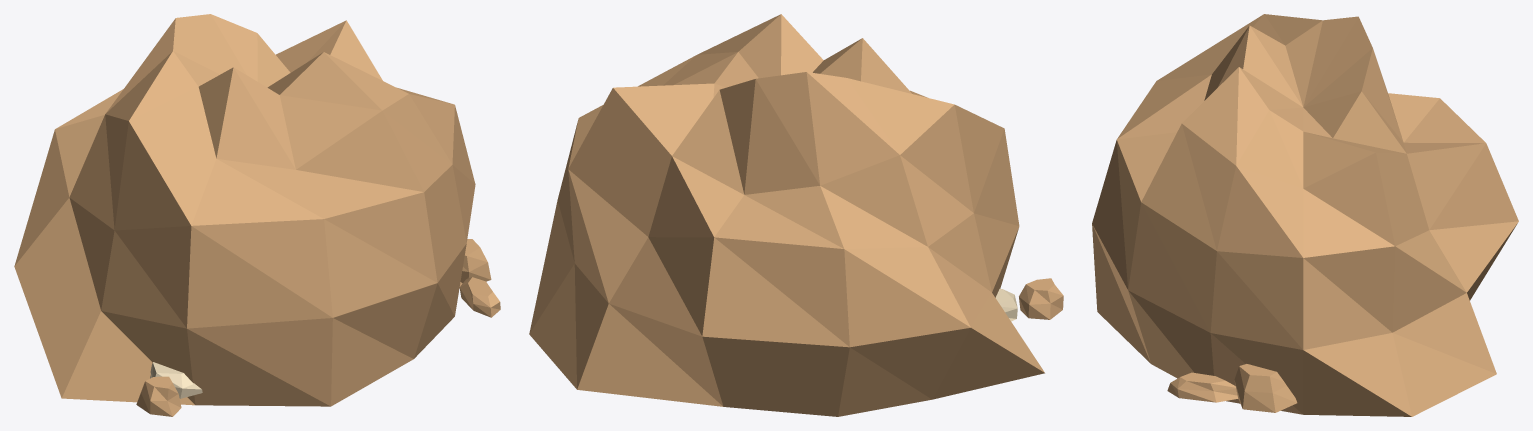
Rendered from desert-canyons-and-oases-talus-cone-4e838620__20912.glb.
The picture shows the model from 3 angles, left to right: view 1: azimuth 30°, elevation 25°; view 2: azimuth 150°, elevation 25°; view 3: azimuth 270°, elevation 25°; orthographic projection. The views are drawn at different scales.
Parts seen in each view (by area): view 1: talus-cone; view 2: talus-cone; view 3: talus-cone.
Boxes of the visible parts, bbox=[...] form: talus-cone: bbox=[14, 14, 500, 416]; talus-cone: bbox=[529, 14, 1063, 416]; talus-cone: bbox=[1092, 14, 1518, 416].
Bounding box in the file's own units: 4.88 × 3.09 × 4.19.
